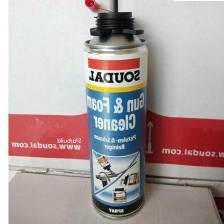aerosol_cans: (80, 1, 152, 224)
